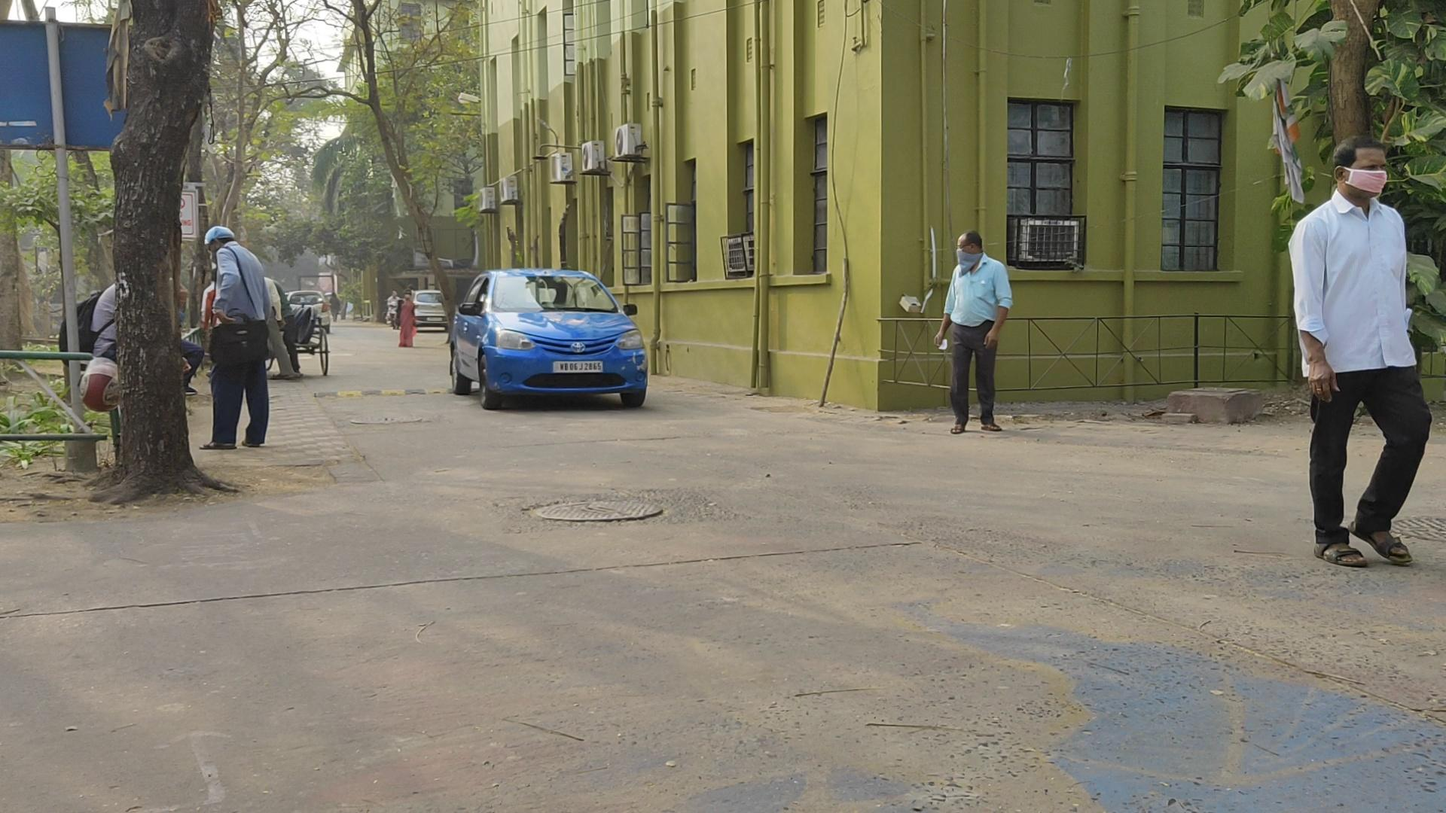car: (450, 268, 648, 410), (285, 291, 331, 336), (410, 289, 452, 333)
